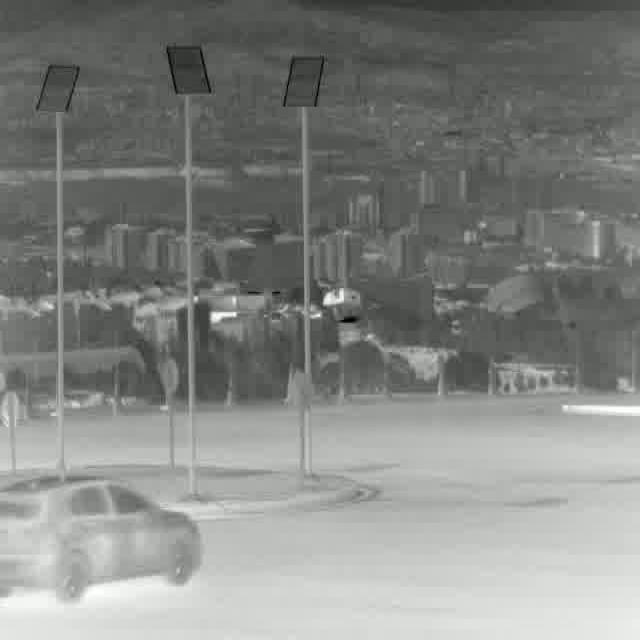Car: (0, 478, 200, 602)
